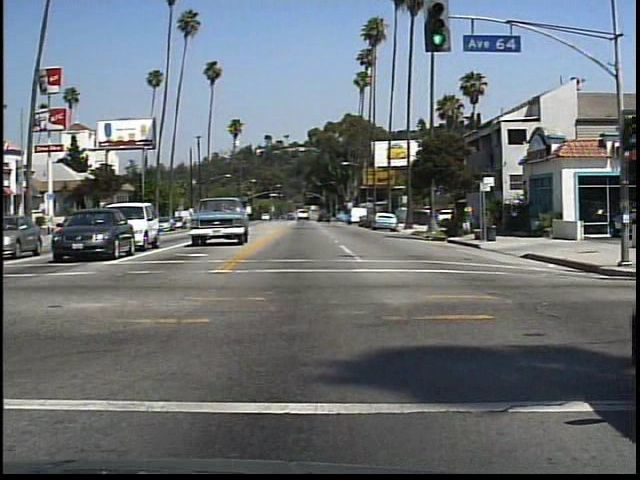person: (462, 203, 477, 237)
